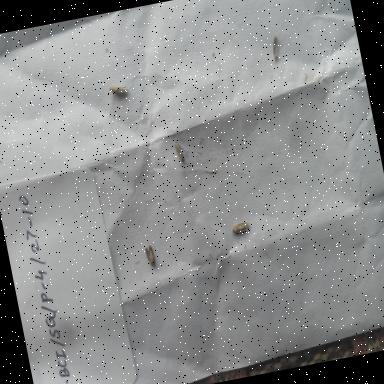pbw: (264, 28, 289, 64), (139, 242, 162, 273), (228, 216, 256, 240), (102, 78, 130, 101), (170, 138, 190, 166)
